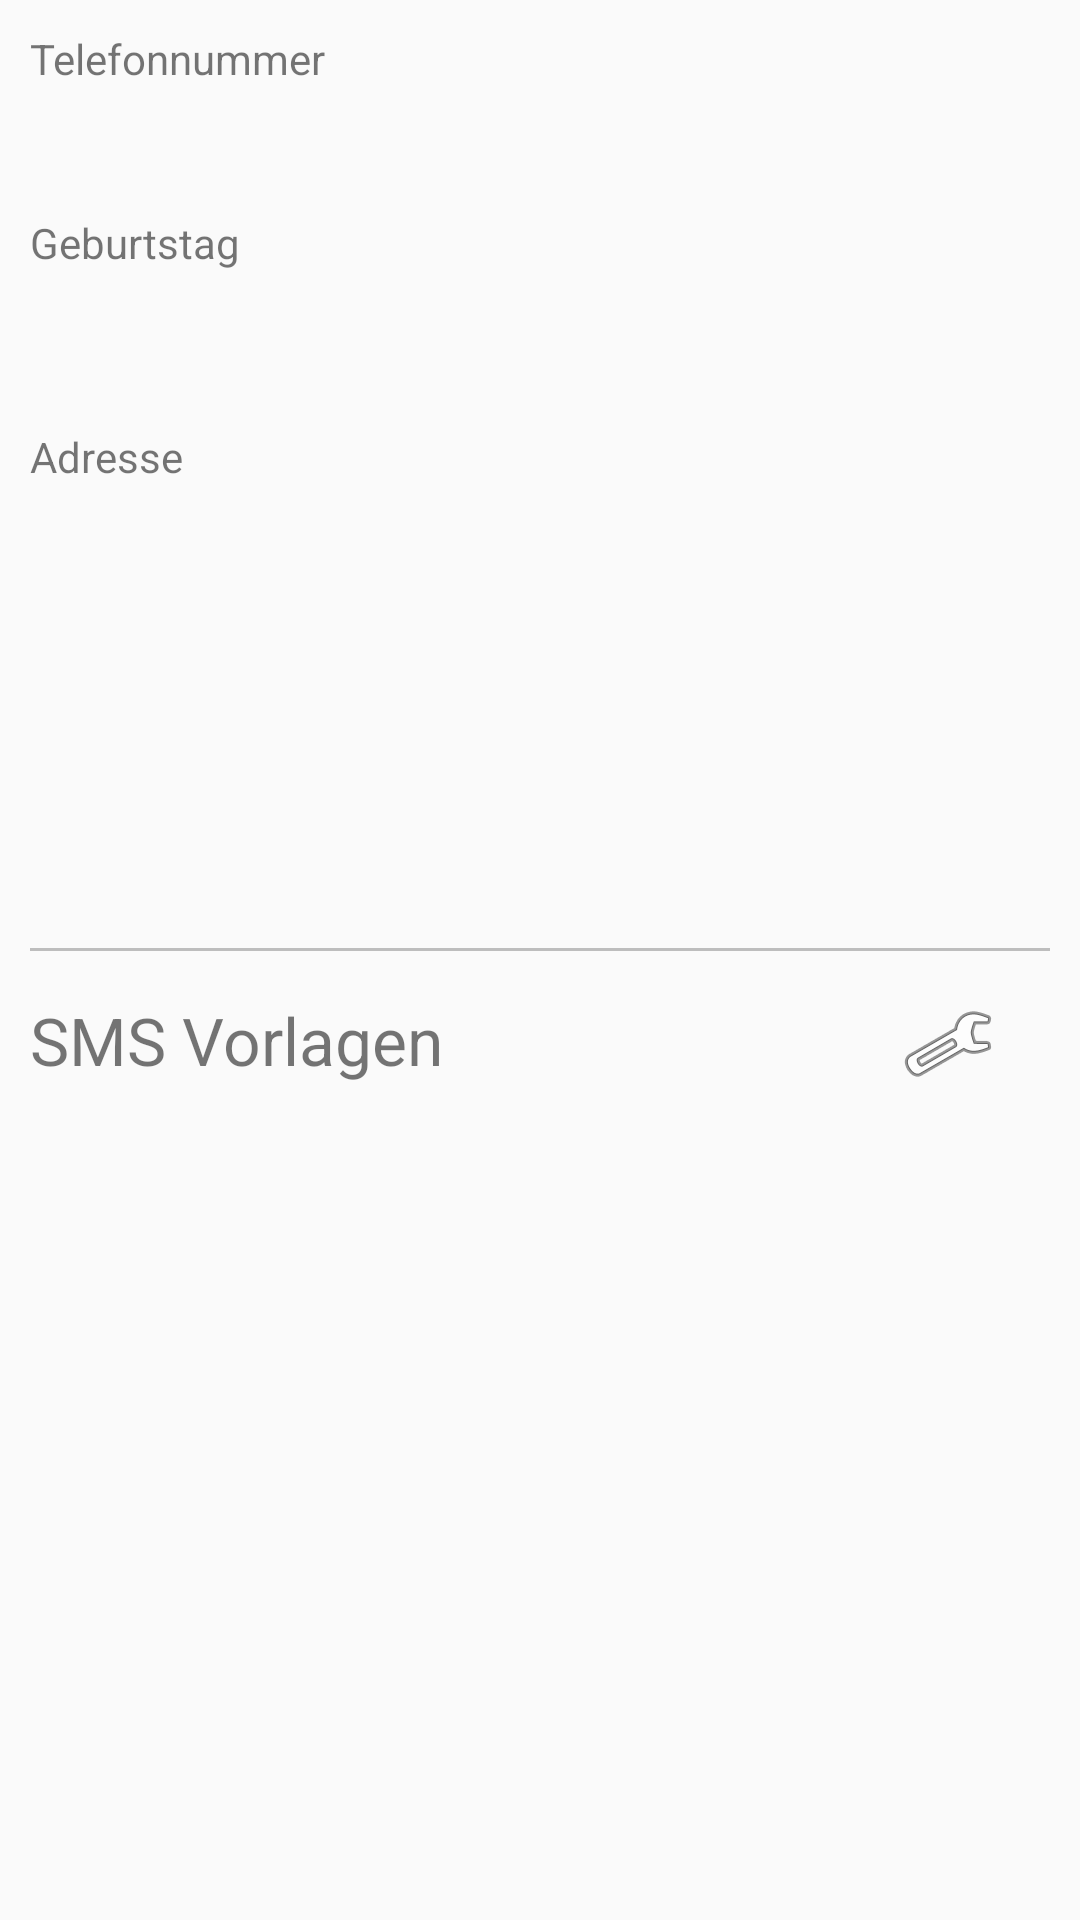

Icons on this 1080x1920 Android screen, each with the point to tap as point (x, y):
preferences: point (948, 1044)
